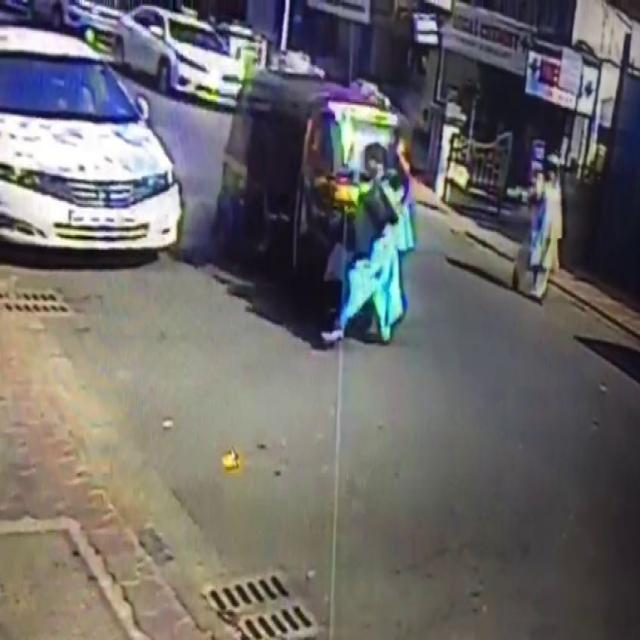autorickshaw: (218, 71, 402, 277)
car: (0, 27, 181, 249), (116, 4, 244, 106)
